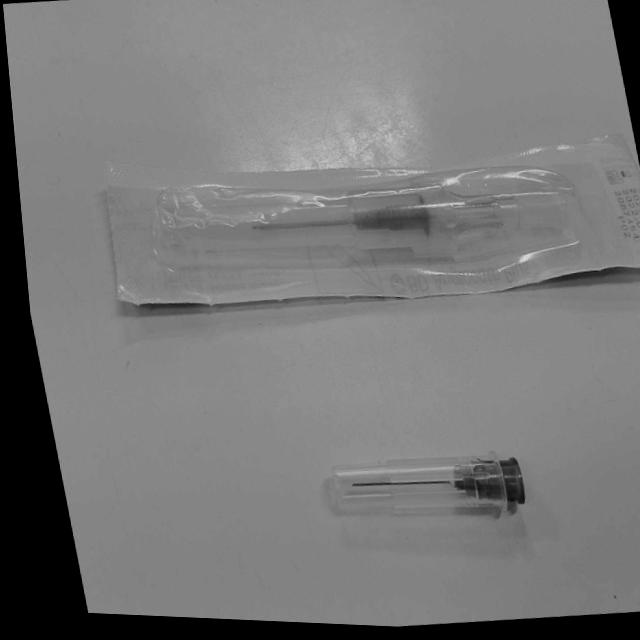General: (102, 132, 639, 311)
Sharps: (328, 452, 527, 517)
